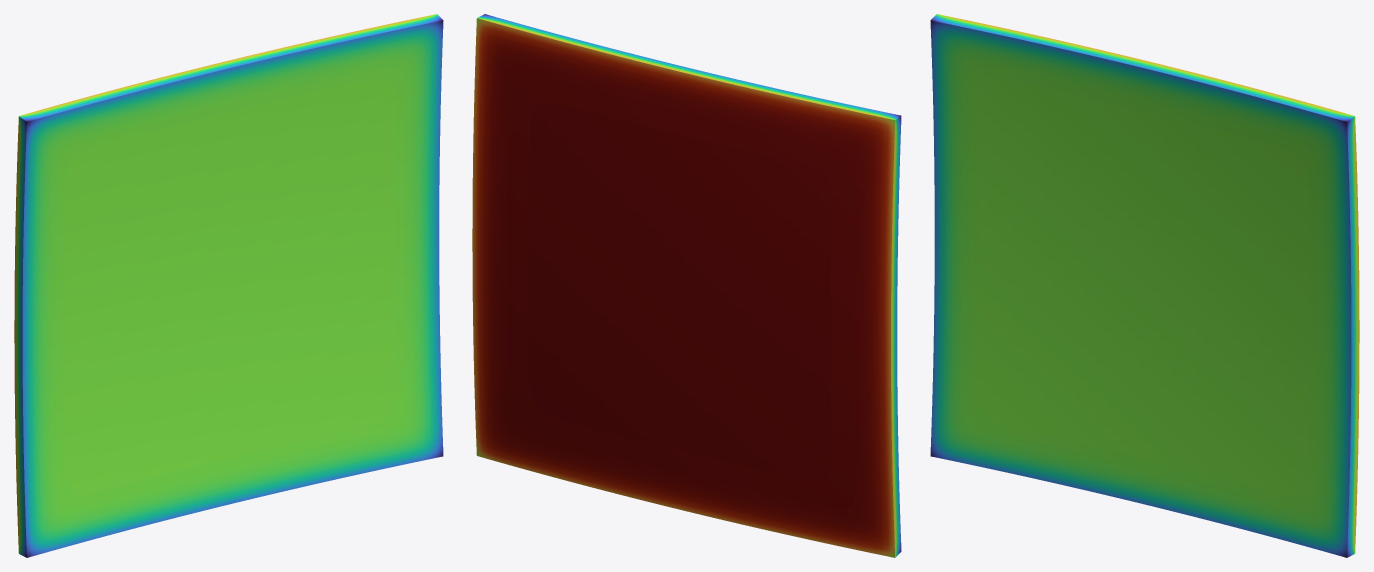
File: Eclipse_DISP_CFRP_3mm.gltf
3 renders of one model, left to right at view 1: azimuth 30°, elevation 25°; view 2: azimuth 150°, elevation 25°; view 3: azimuth 330°, elevation 25°, orthographic.
Visible parts, largest first — view 1: Renderer Node; view 2: Renderer Node; view 3: Renderer Node.
Boxes of the visible parts, x1=… form: Renderer Node: x1=14, y1=14, x2=443, y2=557; Renderer Node: x1=472, y1=14, x2=901, y2=557; Renderer Node: x1=930, y1=14, x2=1359, y2=557.
Size of the model in its own units: 99.57 by 99.57 by 6.52.
1 material, 1 textured.
